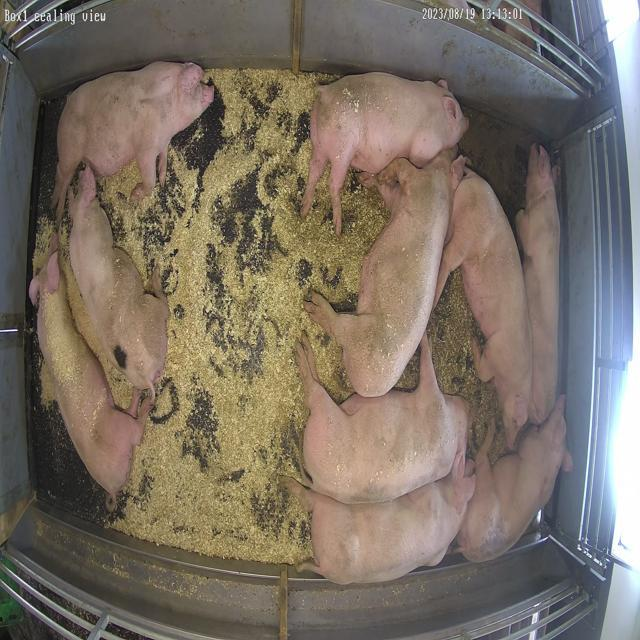Dirt: (428, 271, 506, 458), (460, 107, 540, 222)
Pig: (305, 149, 457, 398), (29, 251, 153, 500), (297, 337, 469, 504), (302, 72, 469, 234), (436, 168, 532, 446), (53, 61, 214, 220), (289, 455, 476, 586), (69, 168, 167, 396), (459, 397, 573, 562), (517, 144, 562, 424)
